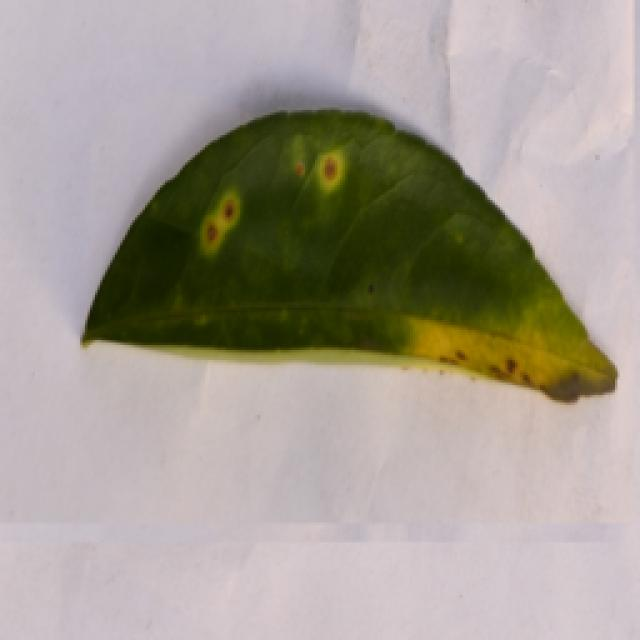canker: (85, 98, 542, 417)
